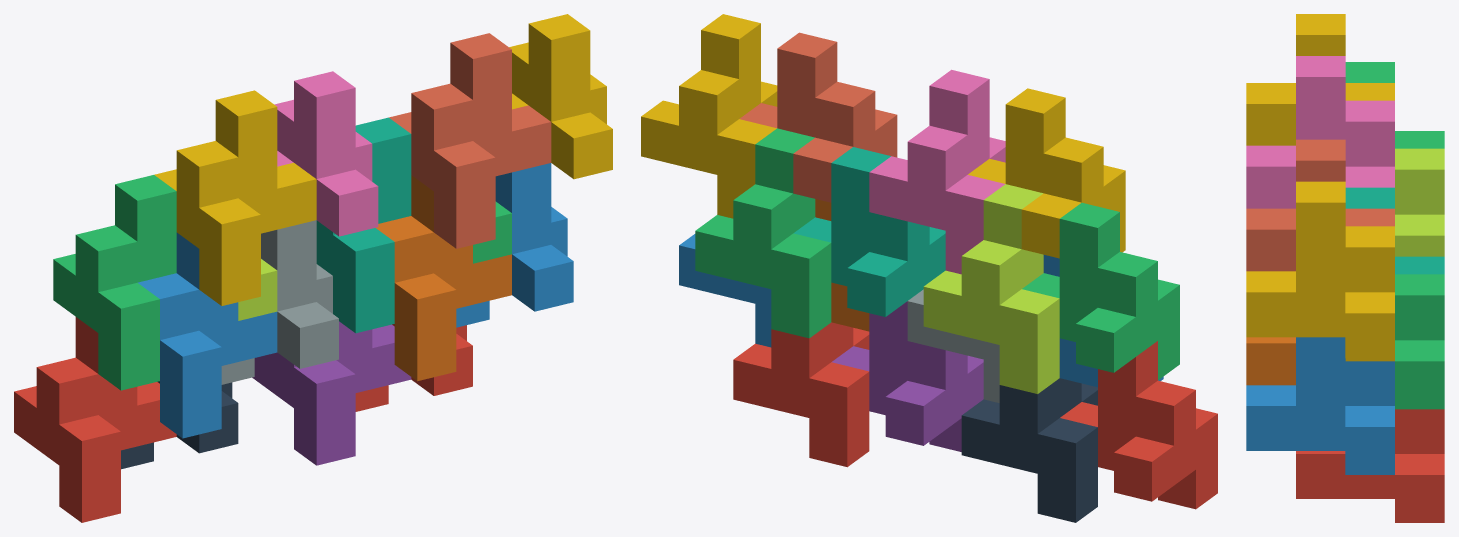
The model's file is tiling.obj.
3 views of the same model, side by side, from view 1: azimuth 30°, elevation 25°; view 2: azimuth 150°, elevation 25°; view 3: azimuth 270°, elevation 25° (orthographic). The views are drawn at different scales.
Visible parts, largest first — view 1: copy_1_domain_4, copy_1_domain_8, copy_1_domain_3, copy_1_domain_1, copy_1_domain_6, copy_1_domain_2, copy_2_domain_4, copy_2_domain_8, copy_1_domain_5, copy_1_domain_7, copy_2_domain_6, copy_2_domain_2 (+4 smaller); view 2: copy_1_domain_3, copy_2_domain_3, copy_2_domain_7, copy_1_domain_1, copy_2_domain_4, copy_2_domain_8, copy_2_domain_1, copy_2_domain_5, copy_1_domain_7, copy_1_domain_4, copy_1_domain_8, copy_1_domain_5 (+4 smaller); view 3: copy_2_domain_8, copy_2_domain_6, copy_2_domain_4, copy_2_domain_5, copy_2_domain_7, copy_1_domain_8, copy_1_domain_4, copy_2_domain_3, copy_1_domain_6, copy_1_domain_7, copy_1_domain_3.
Part boxes in pixels (x1=…): copy_1_domain_4: x1=154, y1=90, x2=316, y2=305; copy_1_domain_8: x1=389, y1=33, x2=551, y2=248; copy_1_domain_3: x1=53, y1=175, x2=176, y2=390; copy_1_domain_1: x1=14, y1=317, x2=176, y2=522; copy_1_domain_6: x1=375, y1=175, x2=511, y2=381; copy_1_domain_2: x1=138, y1=232, x2=277, y2=438; copy_2_domain_4: x1=274, y1=71, x2=378, y2=236; copy_2_domain_8: x1=509, y1=14, x2=612, y2=179; copy_1_domain_5: x1=252, y1=321, x2=411, y2=465; copy_1_domain_7: x1=316, y1=117, x2=411, y2=333; copy_2_domain_6: x1=456, y1=163, x2=573, y2=327; copy_2_domain_2: x1=221, y1=220, x2=338, y2=384; copy_1_domain_3: x1=1022, y1=202, x2=1179, y2=379; copy_2_domain_3: x1=923, y1=184, x2=1059, y2=393; copy_2_domain_7: x1=695, y1=128, x2=831, y2=338; copy_1_domain_1: x1=1060, y1=341, x2=1217, y2=509; copy_2_domain_4: x1=869, y1=69, x2=1005, y2=274; copy_2_domain_8: x1=641, y1=14, x2=777, y2=218; copy_2_domain_1: x1=961, y1=378, x2=1097, y2=522; copy_2_domain_5: x1=733, y1=322, x2=869, y2=467; copy_1_domain_7: x1=793, y1=147, x2=945, y2=316; copy_1_domain_4: x1=968, y1=88, x2=1125, y2=258; copy_1_domain_8: x1=739, y1=32, x2=897, y2=202; copy_1_domain_5: x1=831, y1=301, x2=983, y2=451; copy_2_domain_8: x1=1246, y1=181, x2=1394, y2=361; copy_2_domain_6: x1=1246, y1=337, x2=1394, y2=474; copy_2_domain_4: x1=1246, y1=56, x2=1394, y2=208; copy_2_domain_5: x1=1296, y1=409, x2=1444, y2=522; copy_2_domain_7: x1=1395, y1=274, x2=1444, y2=409; copy_1_domain_8: x1=1246, y1=139, x2=1394, y2=271; copy_1_domain_4: x1=1246, y1=14, x2=1394, y2=145; copy_2_domain_3: x1=1395, y1=148, x2=1444, y2=256; copy_1_domain_6: x1=1246, y1=337, x2=1295, y2=385; copy_1_domain_7: x1=1345, y1=187, x2=1444, y2=274; copy_1_domain_3: x1=1345, y1=62, x2=1444, y2=148.
Size of the model in its own units: 14 by 9 by 4.
